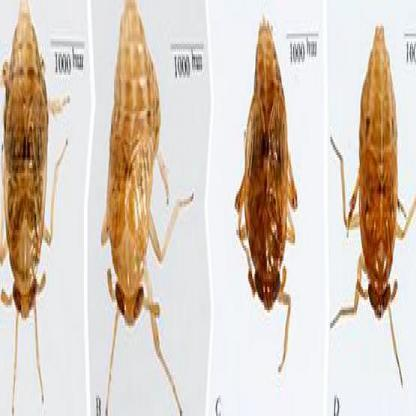brown-planthopper: (105, 5, 163, 326), (0, 13, 51, 320), (242, 14, 286, 314), (356, 23, 398, 318)
